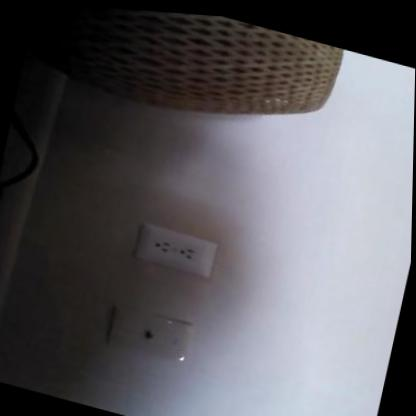OUTLET: (134, 220, 218, 280)
